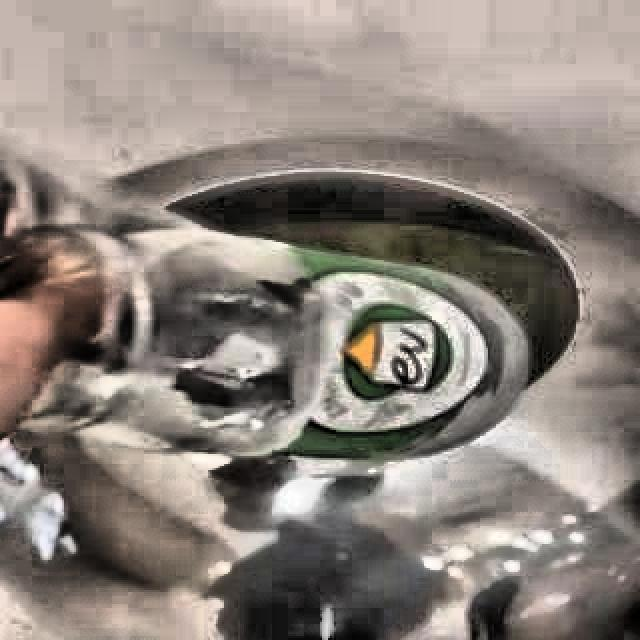glass: (0, 150, 528, 467)
